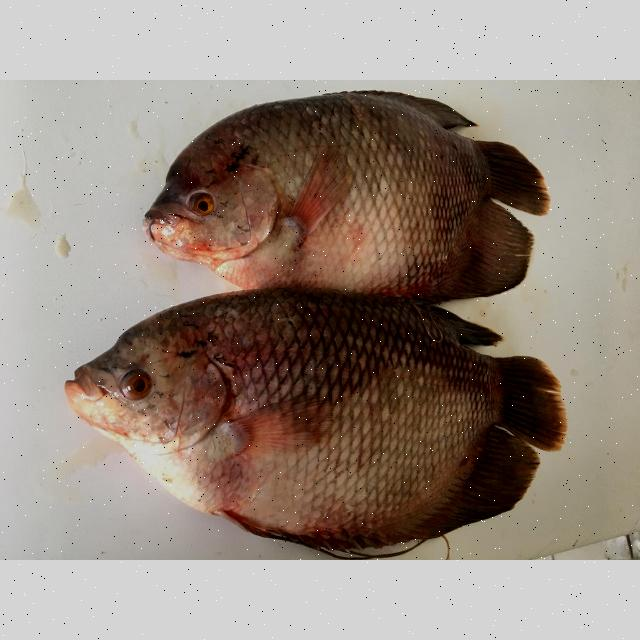Mulut: (34, 341, 121, 445), (126, 194, 198, 266)
Sirip Anal: (350, 427, 560, 555), (443, 196, 561, 314)
Sirip Ekor: (482, 342, 574, 472), (468, 120, 568, 234)
Sirip Perut: (192, 486, 470, 564)
Sirip Punggung: (347, 74, 495, 150), (357, 290, 517, 356)
